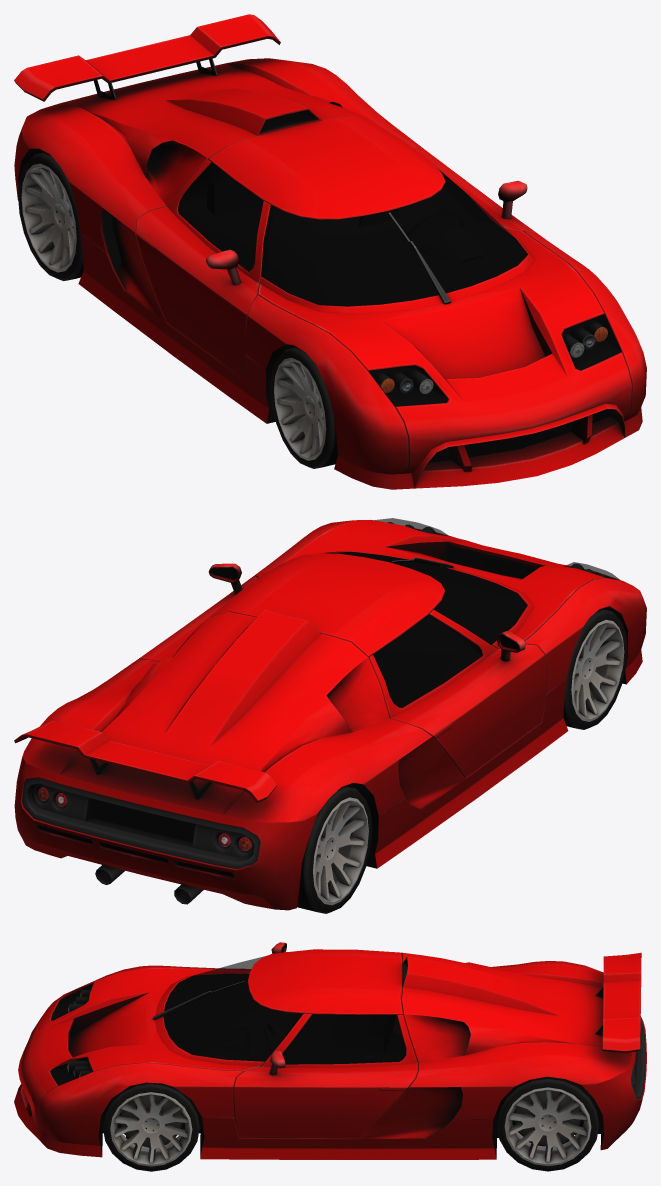
The model's file is car4.glb.
3 renders of one model, top to bottom at view 1: azimuth 30°, elevation 25°; view 2: azimuth 150°, elevation 25°; view 3: azimuth 270°, elevation 25°, orthographic. The views are drawn at different scales.
Visible parts, largest first — view 1: Sport body, rear_wheels, front_wheels; view 2: Sport body, rear_wheels, front_wheels; view 3: Sport body, rear_wheels, front_wheels.
Part boxes in pixels (x1,y1,x2,y2): Sport body: (14, 14, 646, 489); rear_wheels: (18, 152, 83, 280); front_wheels: (270, 346, 337, 468); Sport body: (14, 518, 646, 910); rear_wheels: (297, 786, 372, 913); front_wheels: (563, 608, 627, 729); Sport body: (14, 942, 646, 1159); rear_wheels: (496, 1076, 599, 1171); front_wheels: (103, 1082, 199, 1171).
Size of the model in its own units: 2.3 by 1.35 by 5.09.
4 materials, 3 textured.
